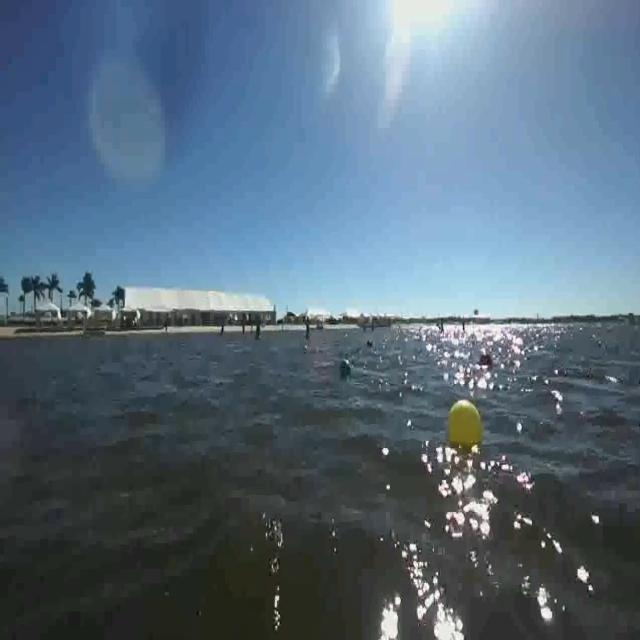yellow-buoy: (447, 396, 484, 451)
